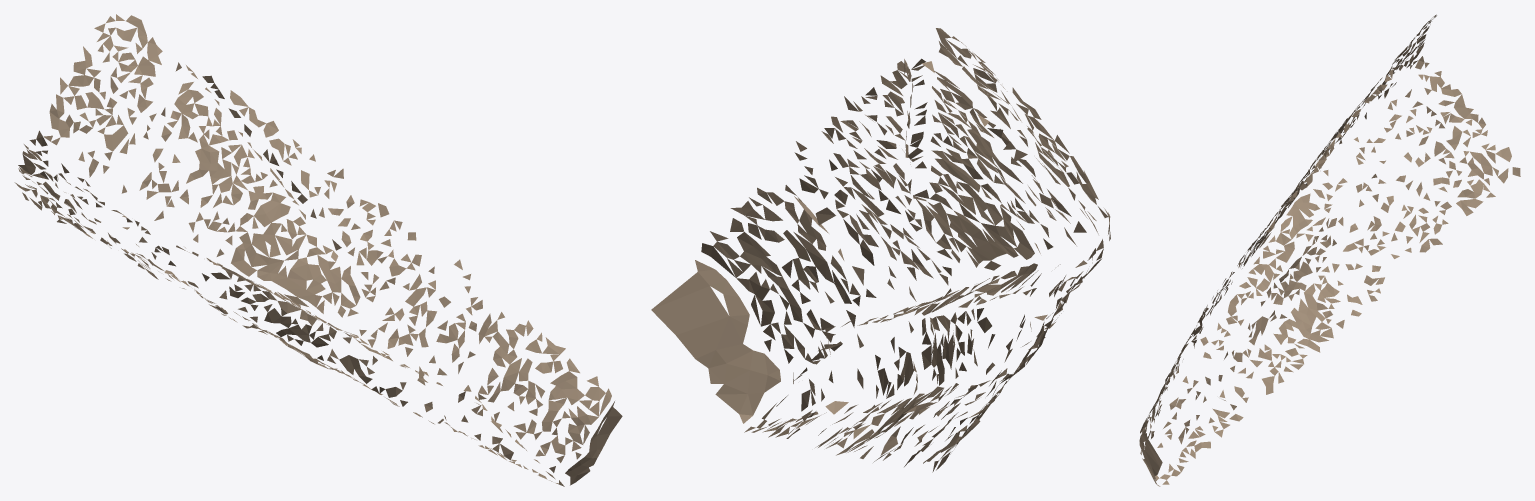
File: rocky_dedo_derecho_2.obj
3 renders of one model, left to right at view 1: azimuth 30°, elevation 25°; view 2: azimuth 150°, elevation 25°; view 3: azimuth 270°, elevation 25°, orthographic. The views are drawn at different scales.
Size of the model in its own units: 0.1538 by 0.1431 by 0.1396.
1 material, 1 textured.
